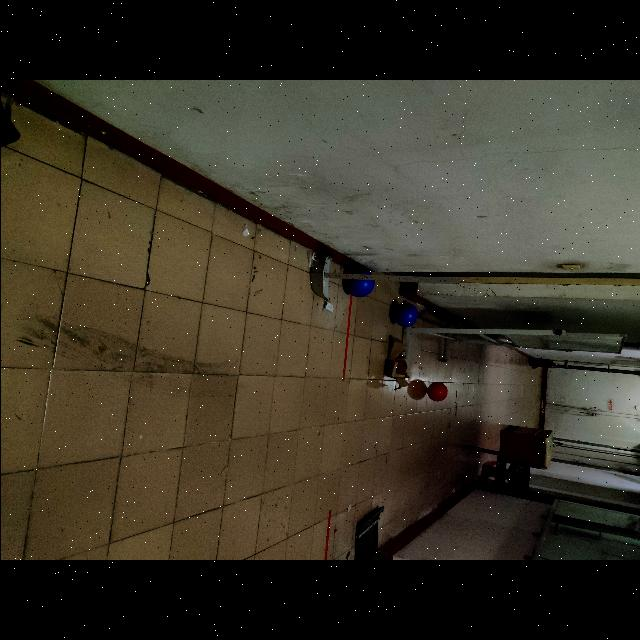B: (344, 268, 374, 298), (392, 302, 418, 328)
R: (427, 382, 447, 402)
